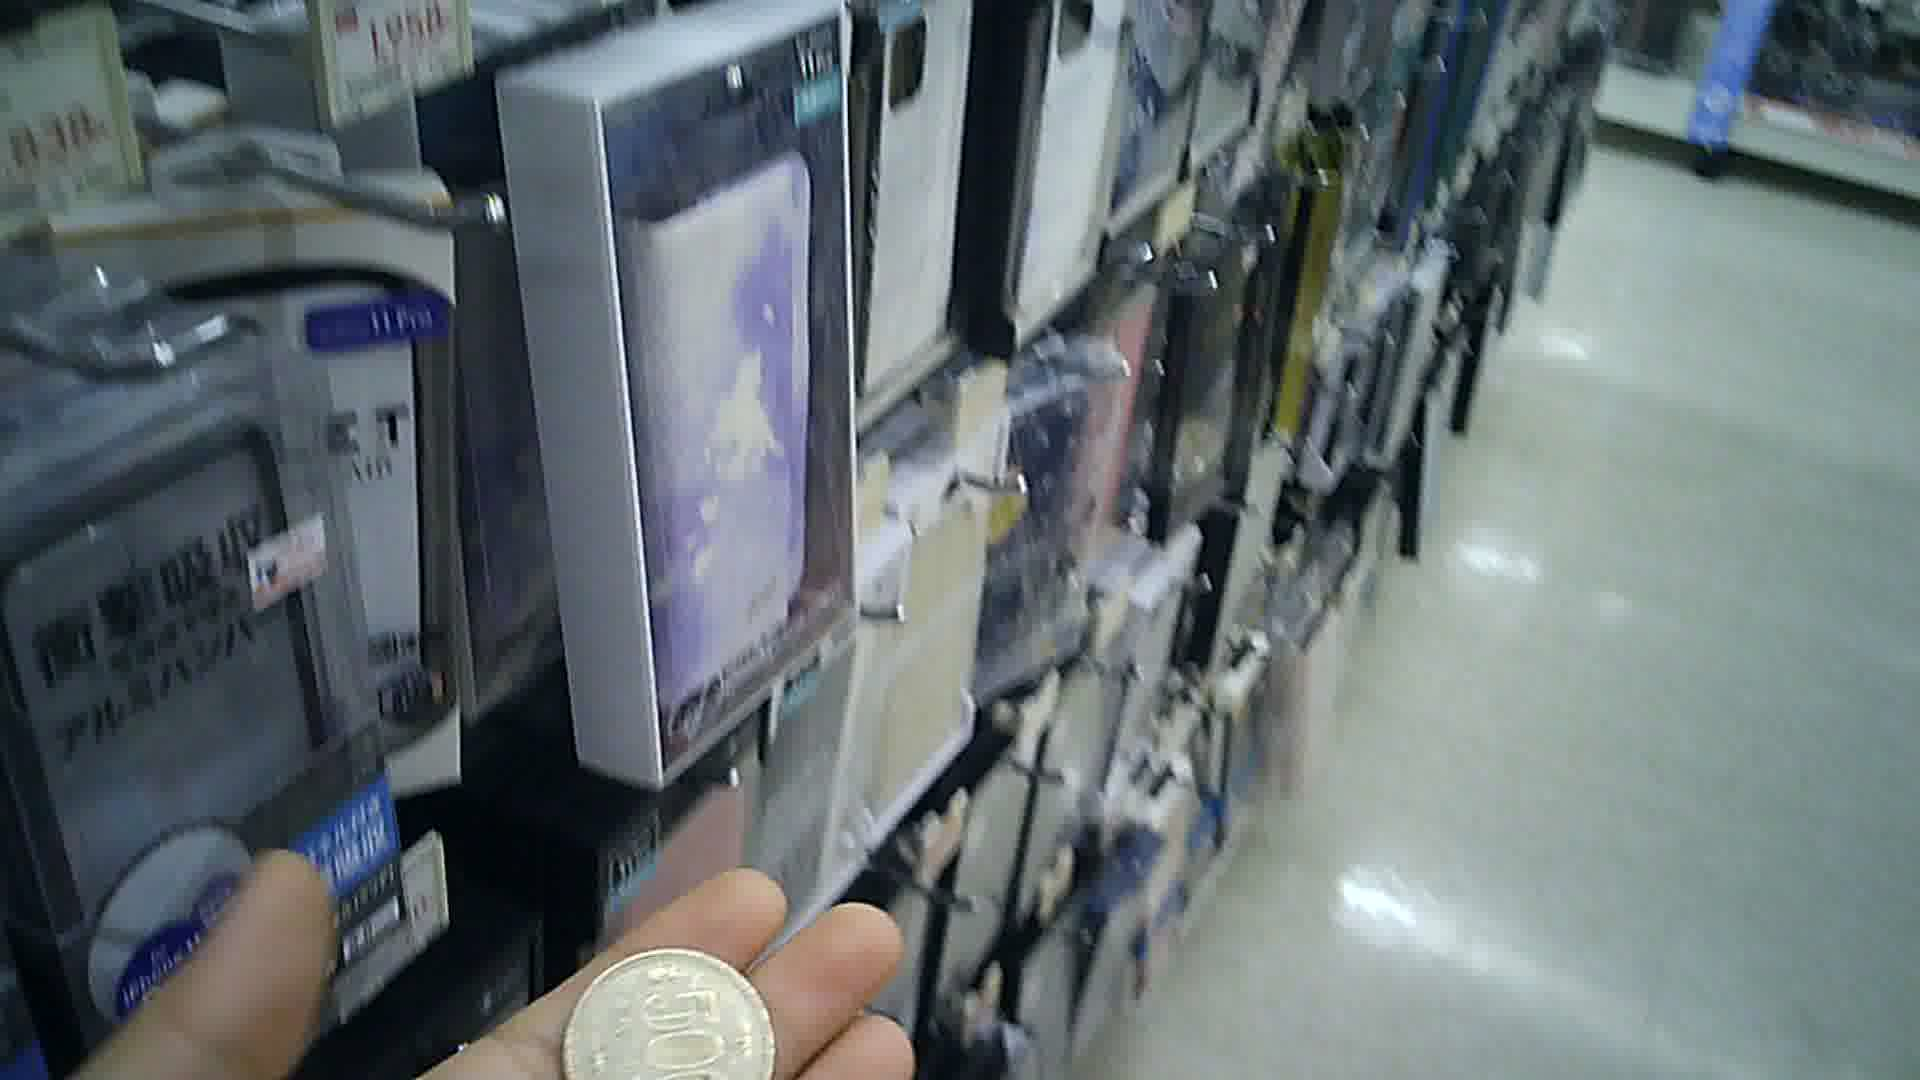500 Yen: (568, 942, 778, 1079)
